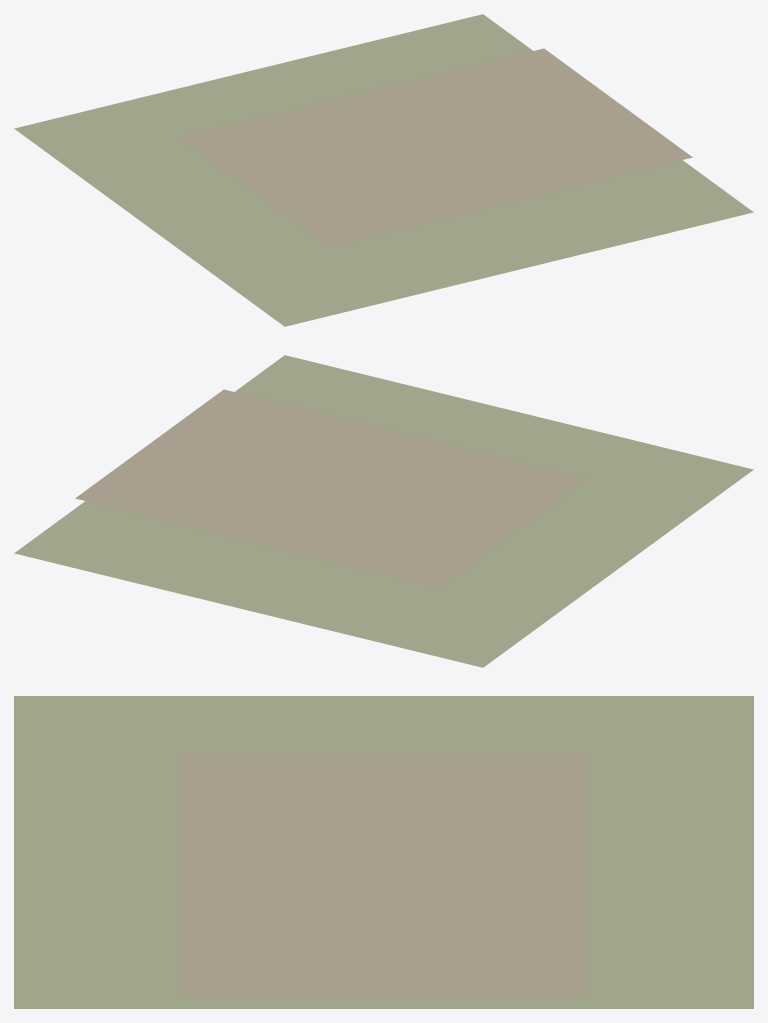
3 renders of one model, top to bottom at view 1: azimuth 30°, elevation 25°; view 2: azimuth 150°, elevation 25°; view 3: azimuth 270°, elevation 25°, orthographic. The views are drawn at different scales.
Parts seen in each view (by area): view 1: Near; view 2: Near; view 3: Near.
Boxes of the visible parts, <box> form: Near: <box>14,14,753,326</box>; Near: <box>14,355,753,667</box>; Near: <box>14,696,753,1008</box>.
Size of the model in its own units: 1 by 0.021 by 1.
